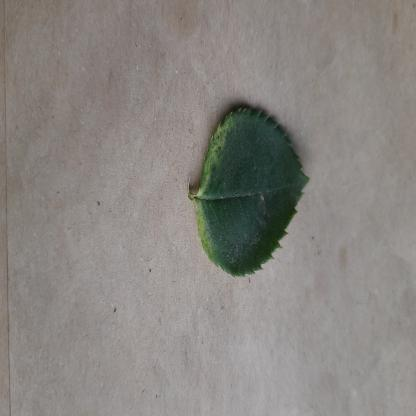downy-mildew: (196, 106, 309, 274)
